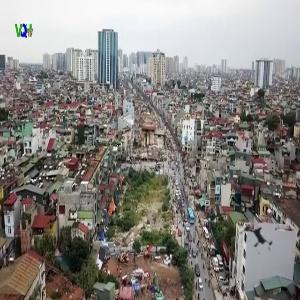drone: (231, 210, 289, 268)
